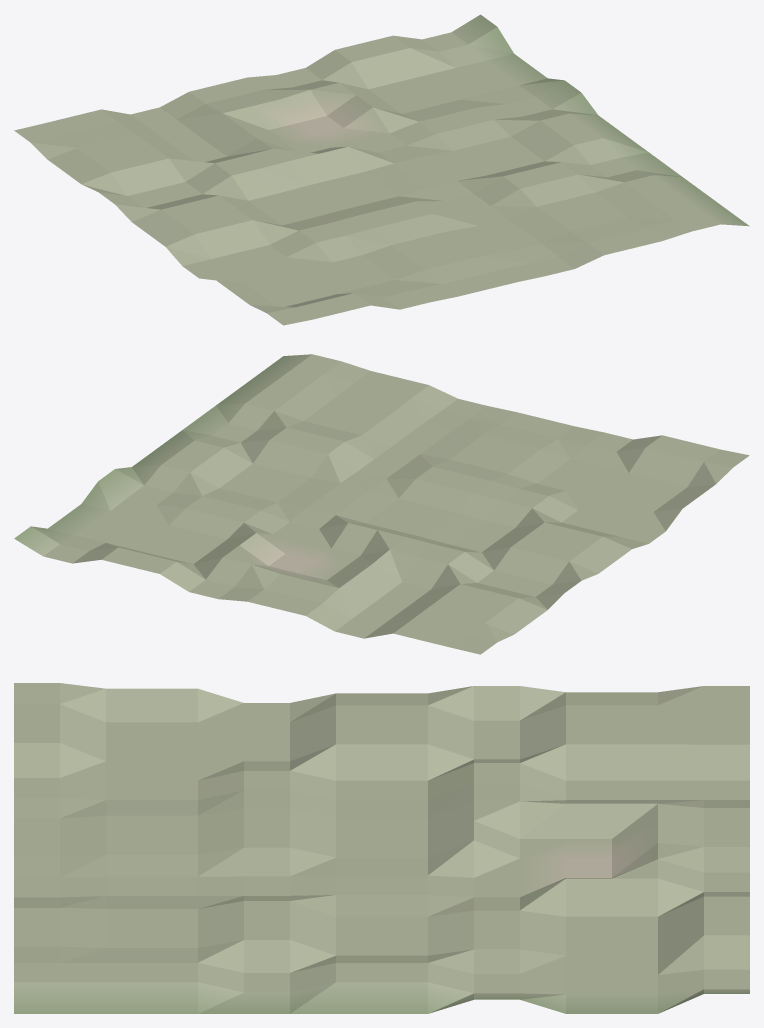
The picture shows the model from 3 angles, top to bottom: view 1: azimuth 30°, elevation 25°; view 2: azimuth 150°, elevation 25°; view 3: azimuth 270°, elevation 25°; orthographic projection. The views are drawn at different scales.
Size of the model in its own units: 32 by 0.9714 by 32.
